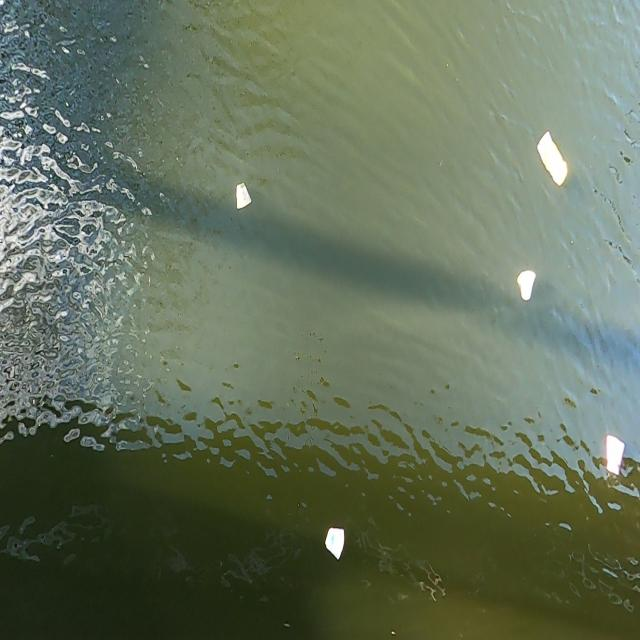Non plastique: (599, 430, 630, 480), (320, 524, 350, 564), (513, 265, 540, 304), (232, 178, 256, 215)
